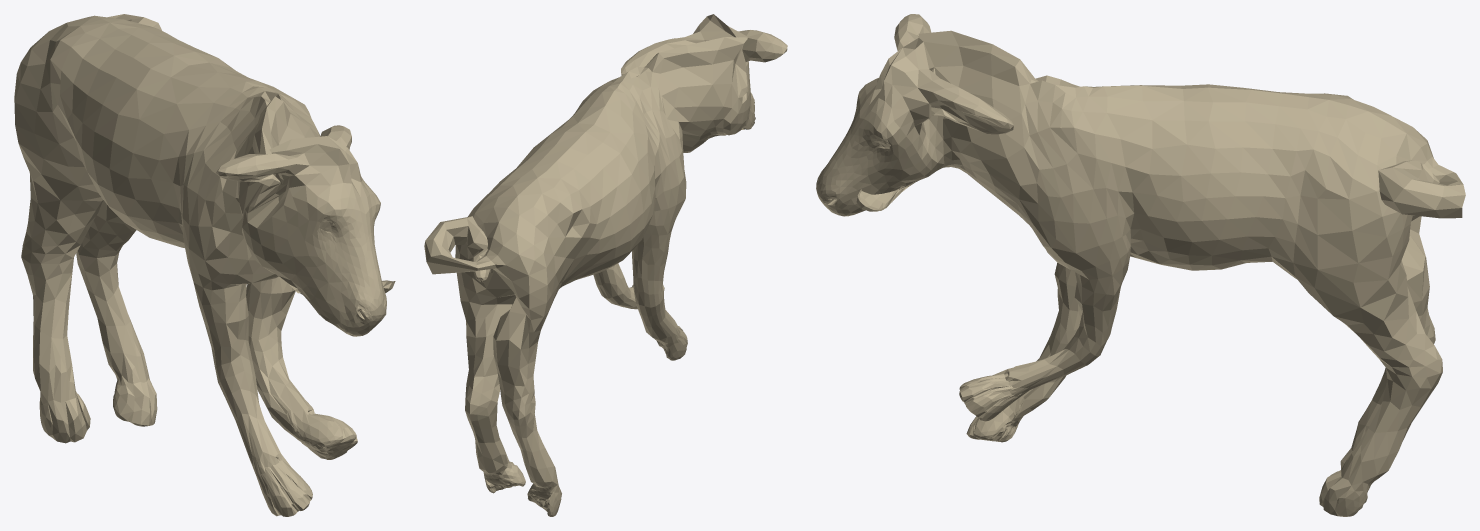
The picture shows the model from 3 angles, left to right: view 1: azimuth 30°, elevation 25°; view 2: azimuth 150°, elevation 25°; view 3: azimuth 270°, elevation 25°; orthographic projection. The views are drawn at different scales.
Parts seen in each view (by area): view 1: world; view 2: world; view 3: world.
Part boxes in pixels (box(x1,y1,x2,y2)): world: box(14, 14, 395, 516); world: box(424, 14, 787, 516); world: box(816, 14, 1465, 516).
Size of the model in its own units: 0.5762 by 1.3 by 1.69.
